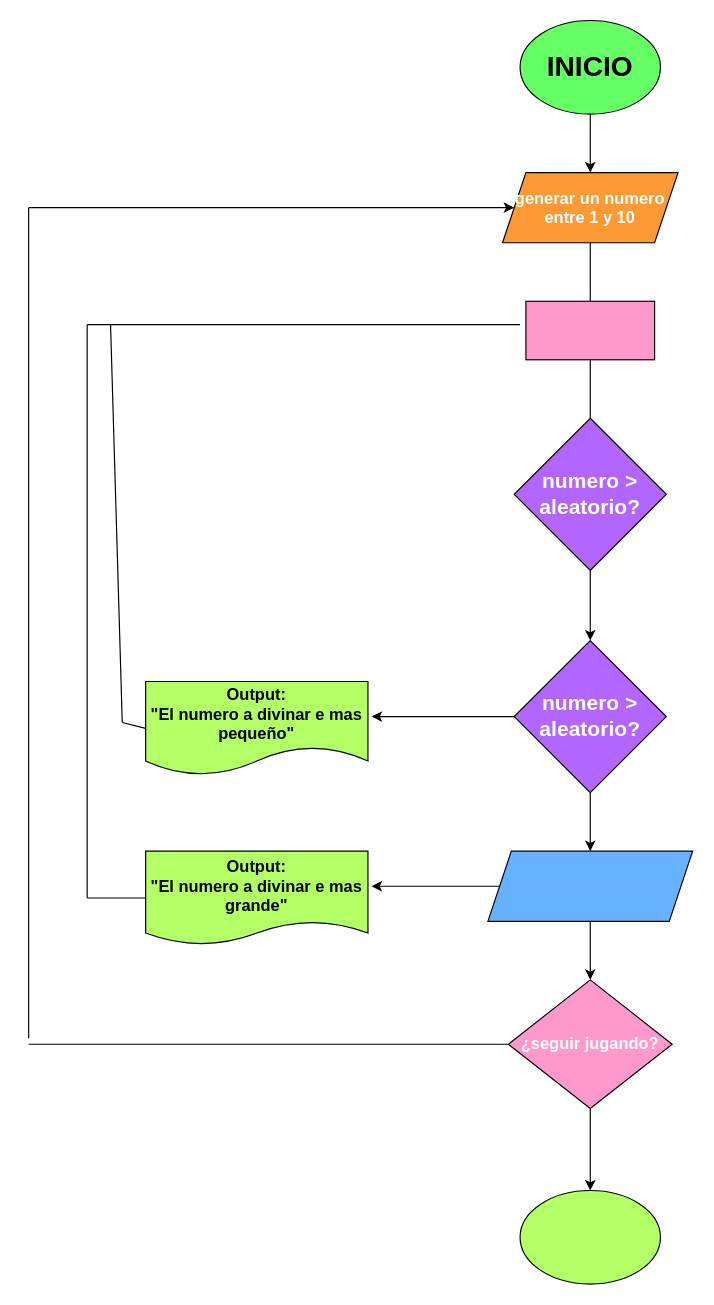
Some shapes in this 714 by 1305 pixel diagram are drawn without their labels. Each missing label, with the centre of its shape:
FIN: (x=589, y=1236)
input: numero: (x=590, y=330)
outtput: "Lo adivinastes": (x=590, y=885)
